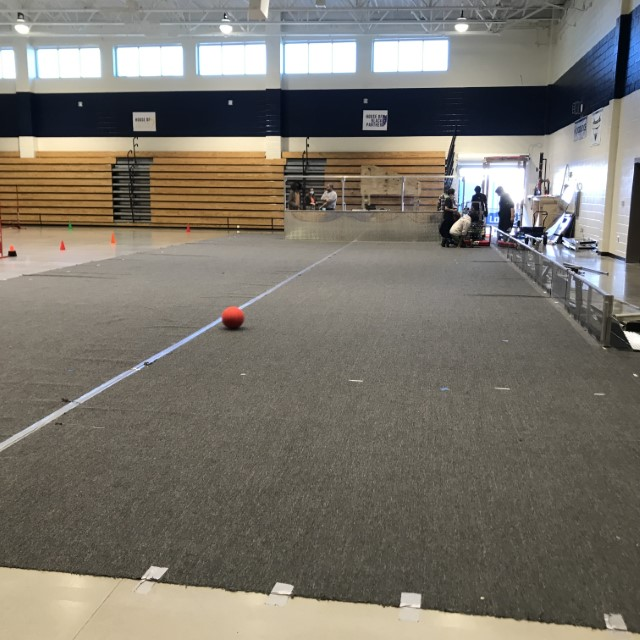red: (218, 304, 247, 332)
